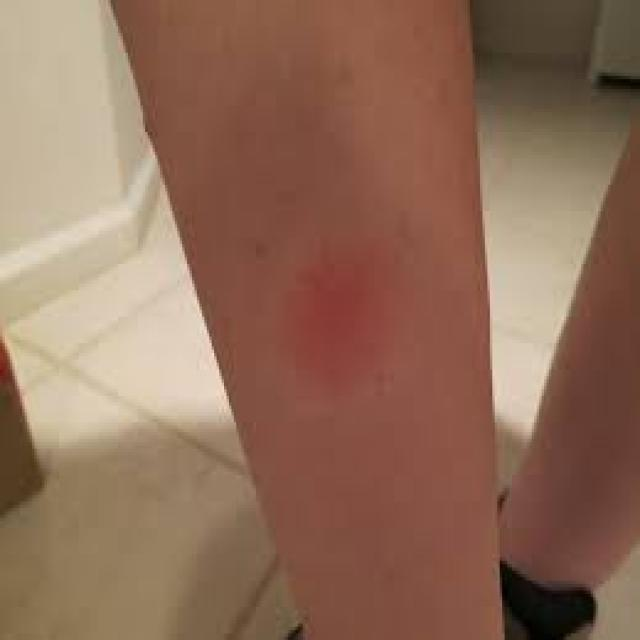kene: (279, 239, 414, 402)
